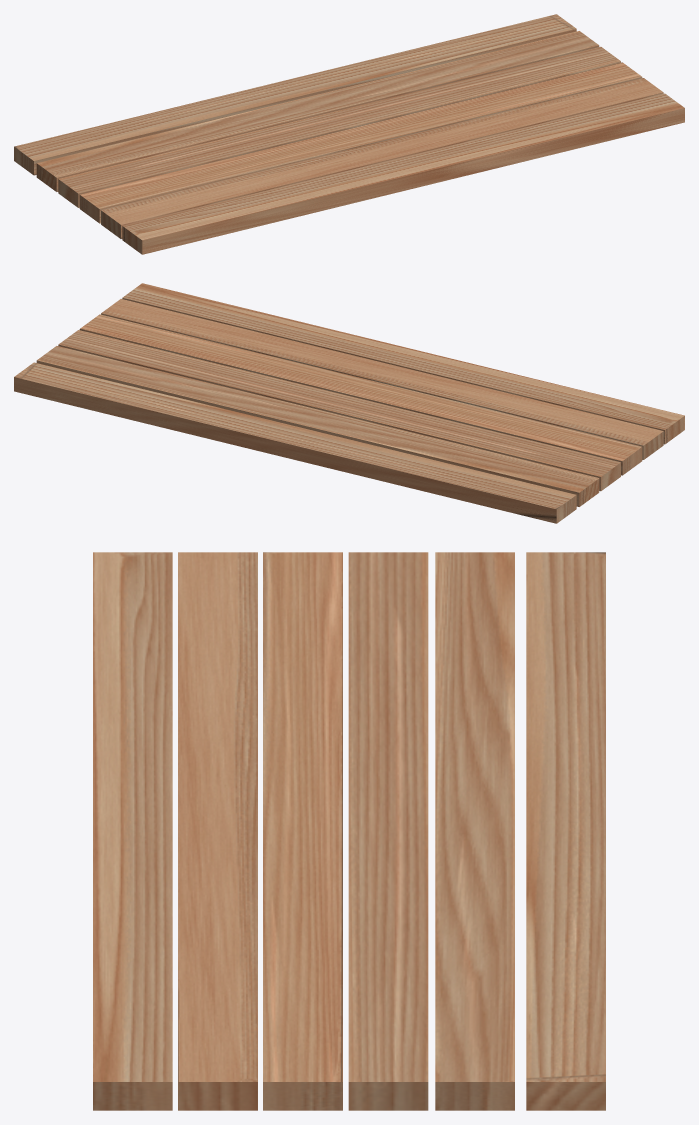
The model's file is Sketch1_WoodPlanks.fbx.
3 renders of one model, top to bottom at view 1: azimuth 30°, elevation 25°; view 2: azimuth 150°, elevation 25°; view 3: azimuth 270°, elevation 25°, orthographic. The views are drawn at different scales.
Parts seen in each view (by area): view 1: Board.001, Board.005, Board.004, Board.003, Board, Board.002; view 2: Board.005, Board.004, Board.003, Board.002, Board.001, Board; view 3: Board.003, Board, Board.001, Board.002, Board.004, Board.005.
Part boxes in pixels (left/top/right/bottom): Board.001: left=122, top=93, right=684, bottom=254; Board.005: left=14, top=14, right=576, bottom=175; Board.004: left=36, top=31, right=599, bottom=191; Board.003: left=58, top=46, right=620, bottom=207; Board: left=101, top=78, right=663, bottom=238; Board.002: left=79, top=62, right=642, bottom=223; Board.005: left=14, top=362, right=576, bottom=523; Board.004: left=36, top=346, right=599, bottom=506; Board.003: left=58, top=330, right=620, bottom=491; Board.002: left=79, top=314, right=642, bottom=475; Board.001: left=122, top=283, right=684, bottom=444; Board: left=101, top=299, right=663, bottom=459; Board.003: left=348, top=552, right=428, bottom=1110; Board: left=178, top=552, right=257, bottom=1110; Board.001: left=93, top=552, right=172, bottom=1110; Board.002: left=263, top=552, right=342, bottom=1110; Board.004: left=435, top=552, right=514, bottom=1110; Board.005: left=526, top=552, right=605, bottom=1110.
Bounding box in the file's own units: 3142 × 79.66 × 1286.
